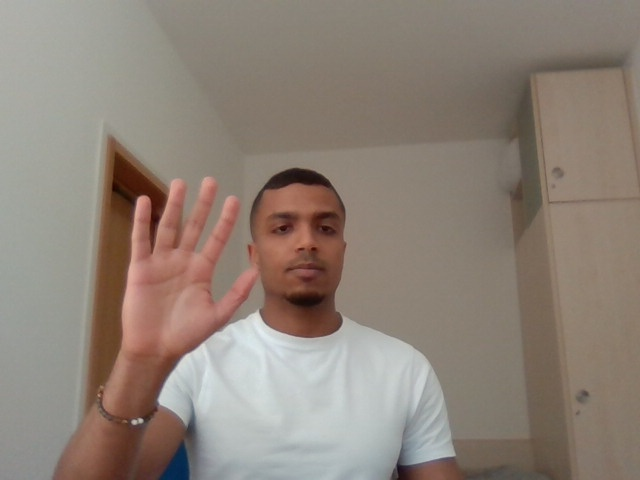hello: (110, 164, 261, 375)
